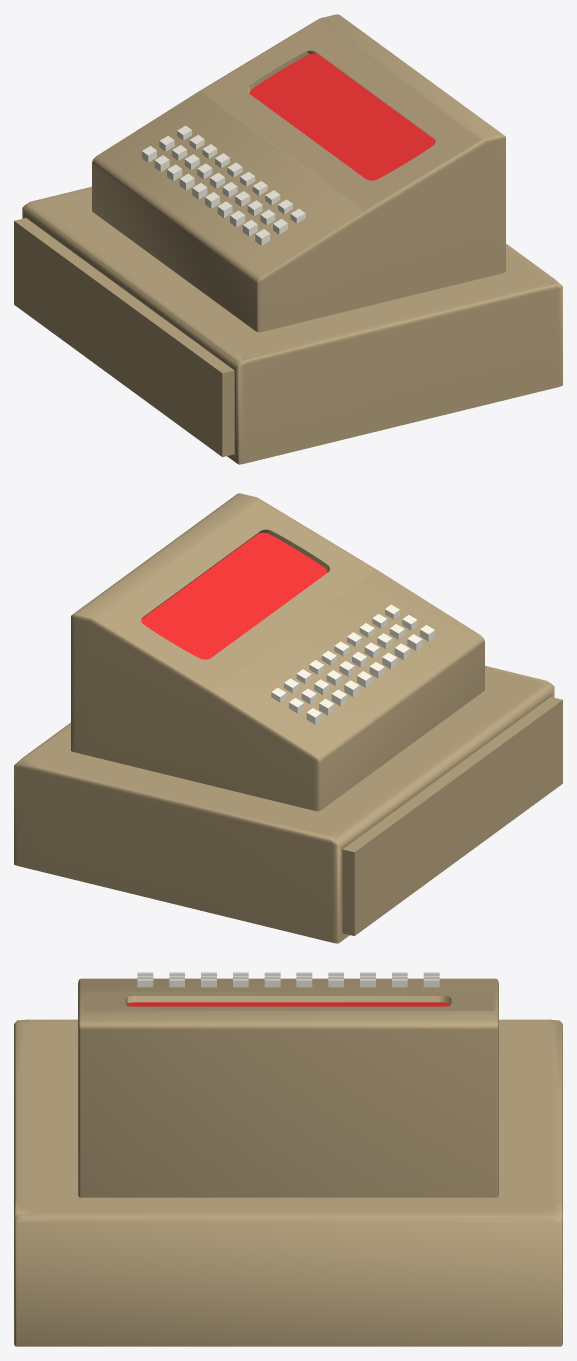
The model's file is Reg.fbx.
3 views of the same model, one above another, from view 1: azimuth 30°, elevation 25°; view 2: azimuth 150°, elevation 25°; view 3: azimuth 270°, elevation 25° (orthographic). The views are drawn at different scales.
Visible parts, largest first — view 1: Reg_Body, Reg_Screen, Reg_Keys; view 2: Reg_Body, Reg_Screen, Reg_Keys; view 3: Reg_Body, Reg_Keys, Reg_Screen.
Boxes of the visible parts, box(x1,y1,x2,y2) form: Reg_Body: box(14, 14, 562, 464); Reg_Screen: box(249, 53, 435, 180); Reg_Keys: box(142, 125, 305, 245); Reg_Body: box(14, 493, 562, 943); Reg_Screen: box(141, 532, 327, 659); Reg_Keys: box(271, 604, 434, 724); Reg_Body: box(14, 978, 562, 1346); Reg_Keys: box(137, 972, 439, 987); Reg_Screen: box(126, 1002, 450, 1006).
Bounding box in the file's own units: 12.91 × 8.8 × 14.45.
